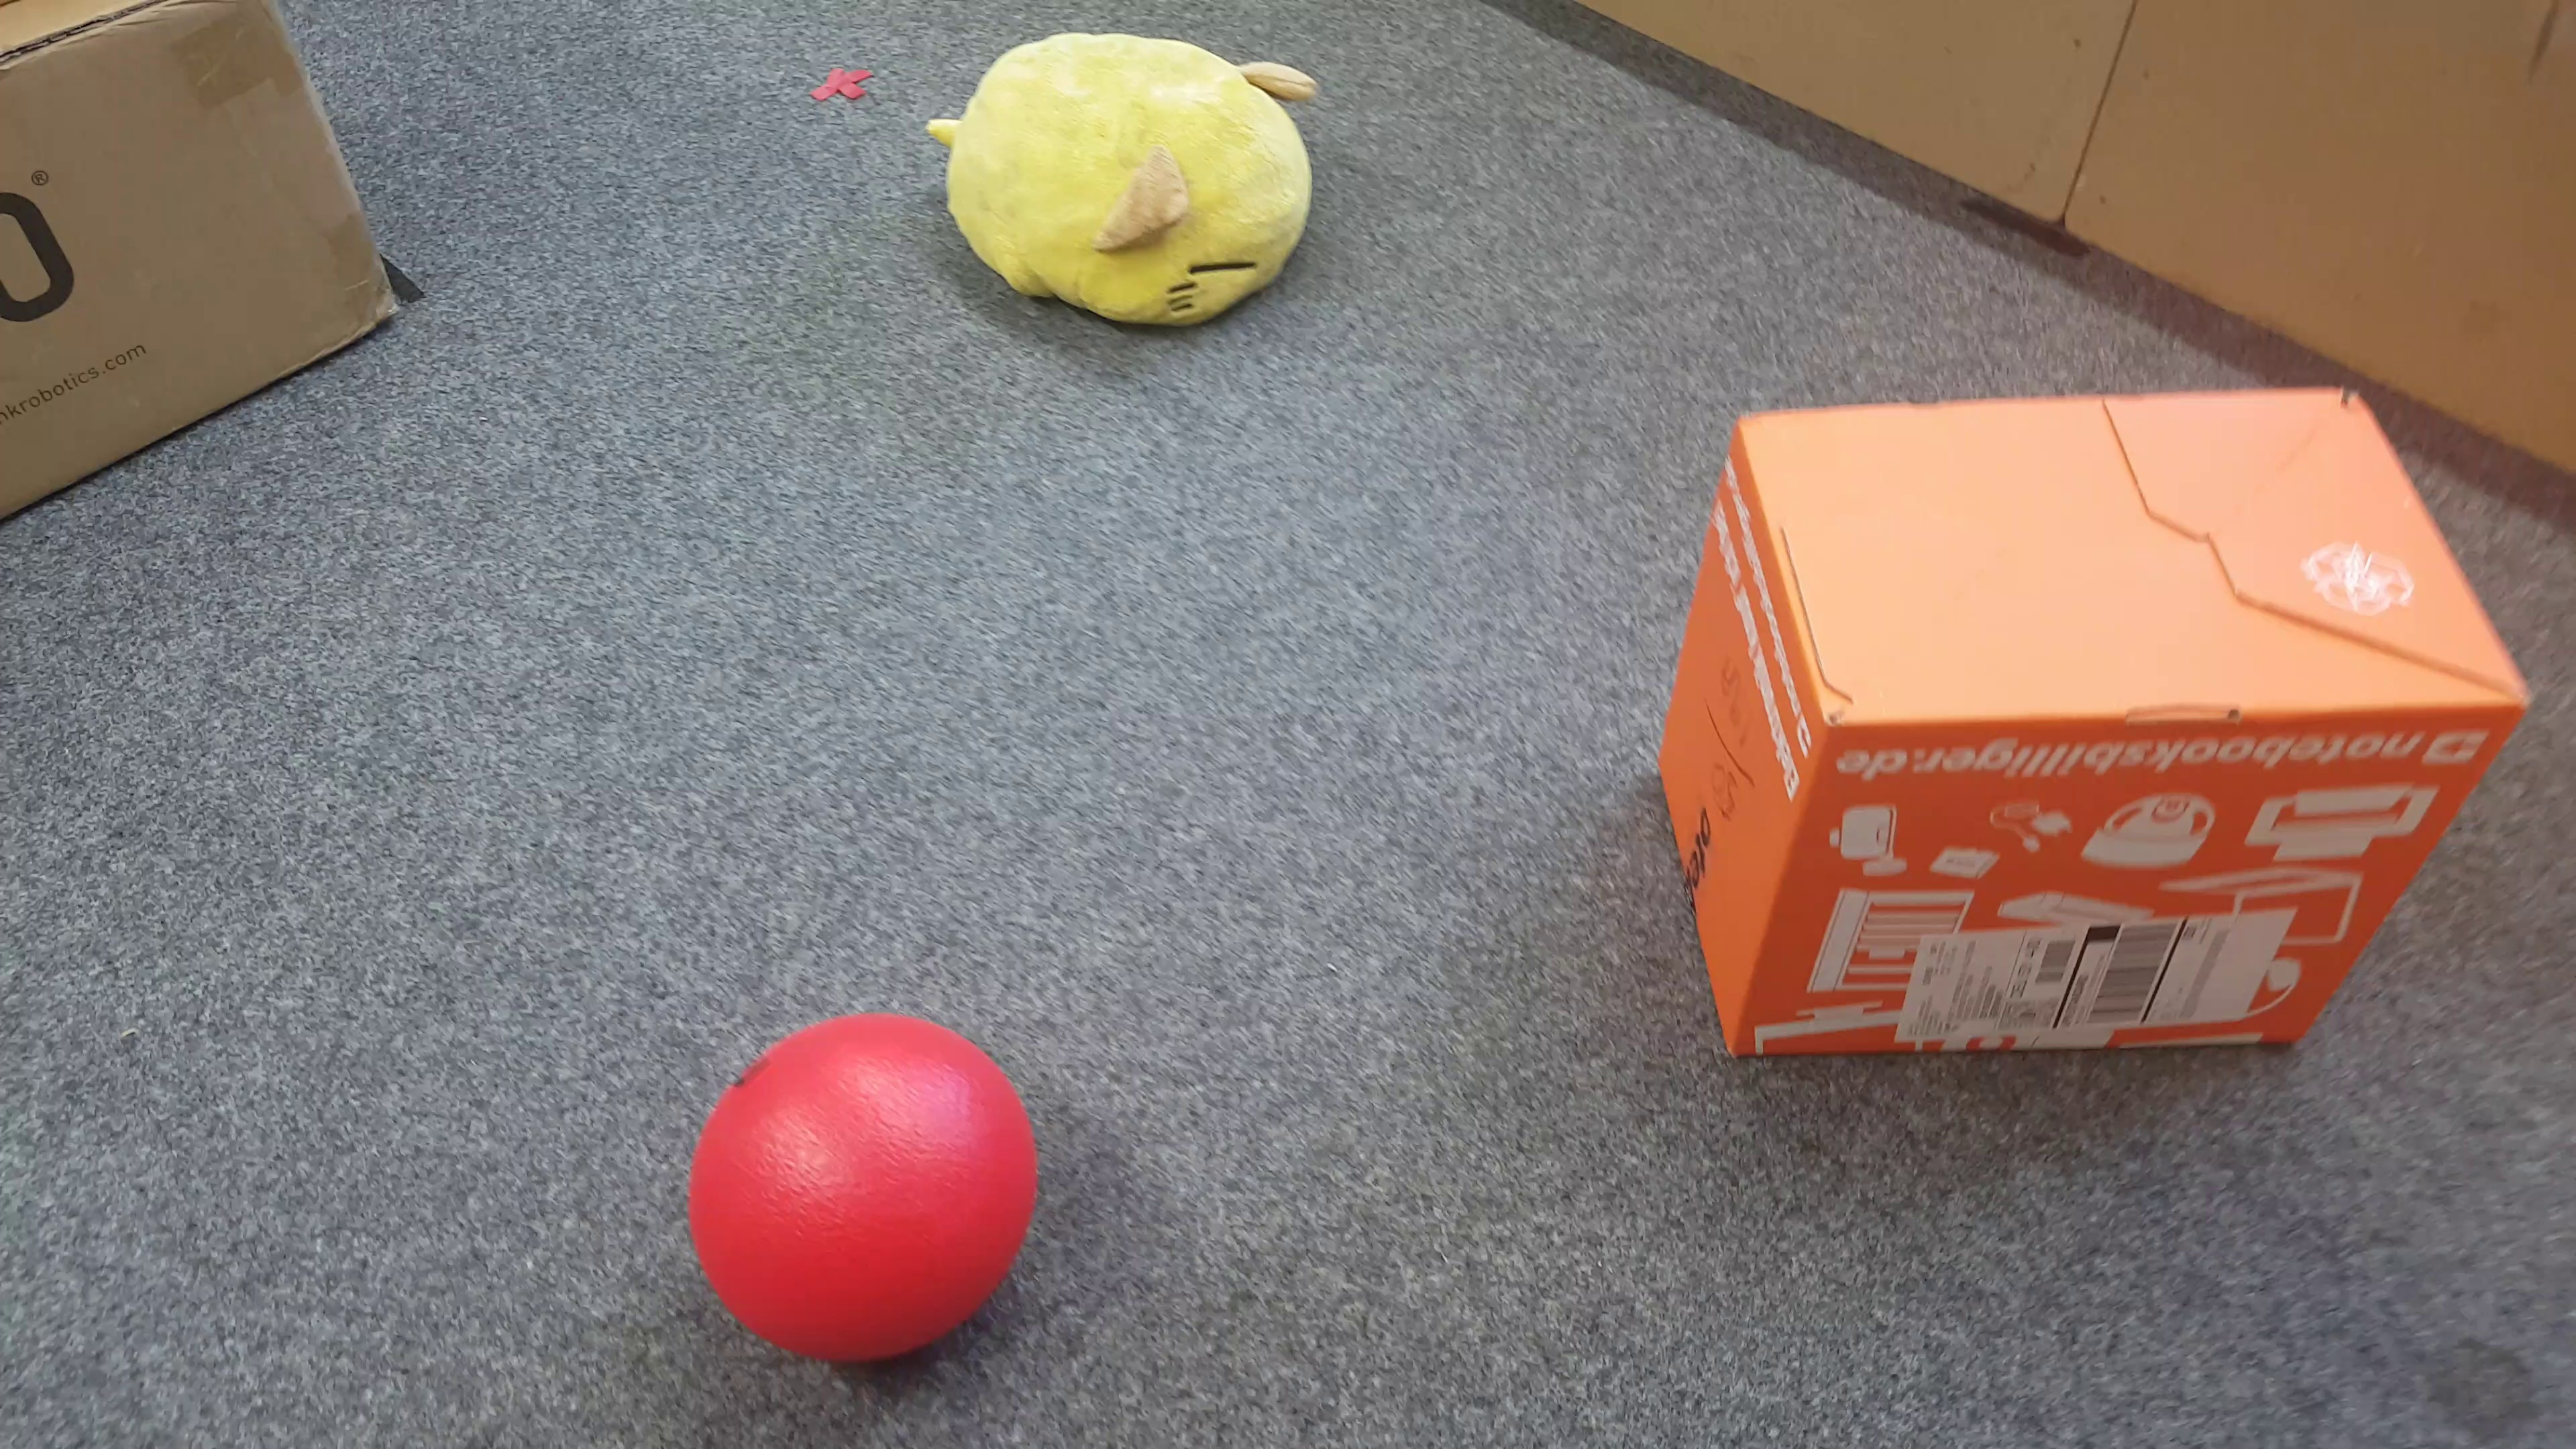grasp: (931, 23, 1318, 343)
kick: (681, 1008, 1046, 1368)
push: (1658, 393, 2532, 1076)
